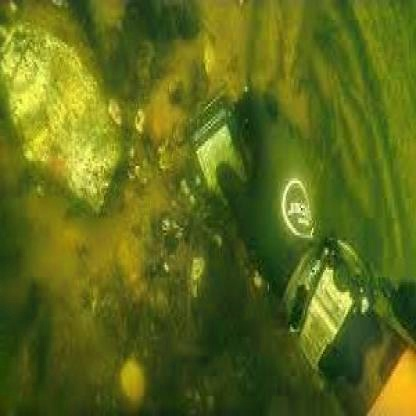misc: (296, 236, 378, 376)
